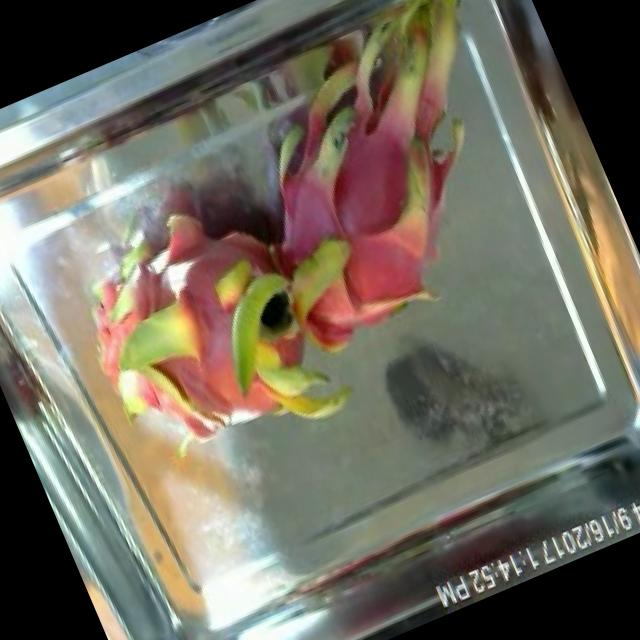Fruit: (91, 240, 199, 349)
